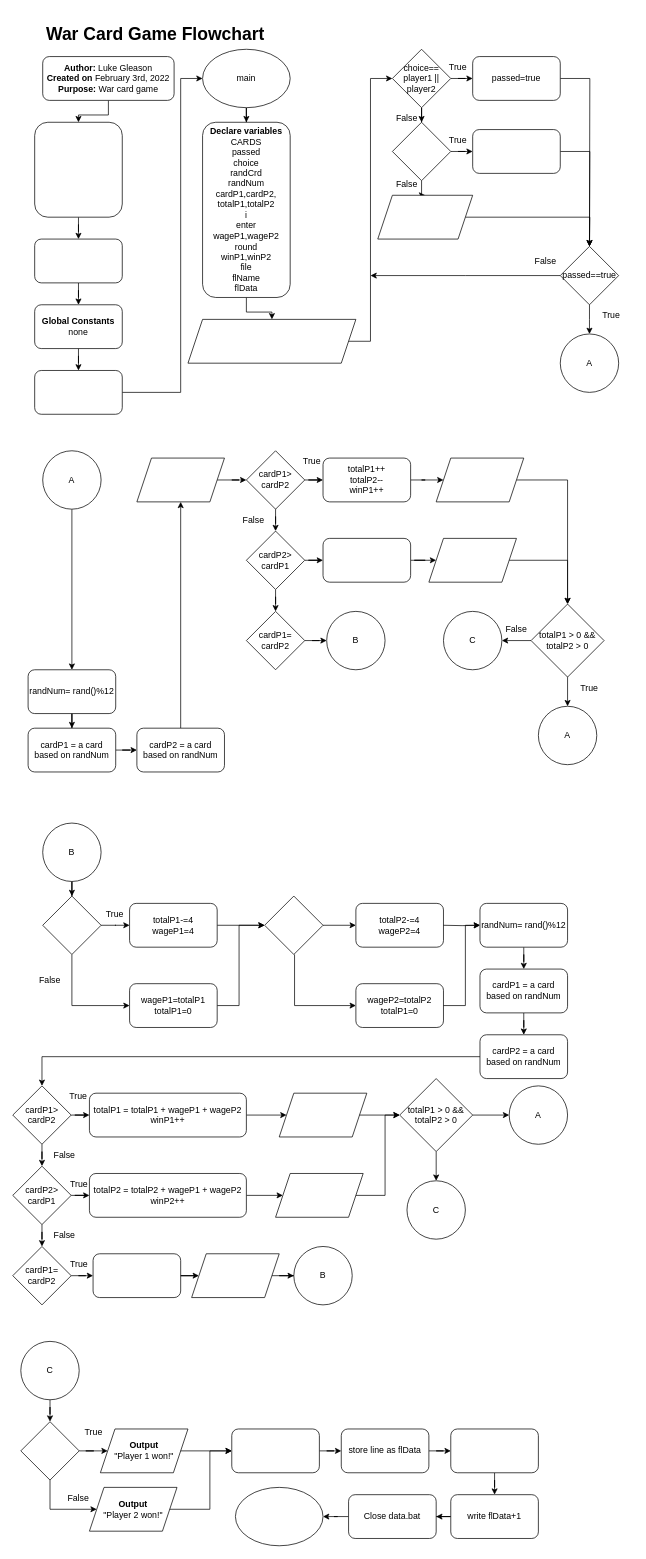
Some shapes in this 646 by 1559 pixel diagram are drawn without their labels. The box of each missing label's shape, as (x1, y1, x2, y2) in pixels:
choice==reset: (392, 122, 451, 181)
data.bat = 0: (472, 129, 560, 173)
Function Prototypes none: (34, 370, 122, 414)
Output "Invalid response": (377, 195, 473, 239)
Output "No one wins": (191, 1253, 279, 1298)
Output "Player 1 wins the round": (435, 457, 524, 502)
Output "Player 1 wins the war": (278, 1092, 367, 1137)
Output "Player 2 wins the round": (428, 538, 516, 582)
Output "Player 2 wins the war": (275, 1173, 363, 1217)
Output Player1 & Player2's card: (136, 457, 224, 502)
Prompt for Input "what player do you want to be" choice: (187, 319, 356, 363)
read data.bat: (231, 1428, 319, 1473)
return 0 exit from main: (235, 1487, 323, 1546)
System Librarys iostream string iomanip cmath cstdlib fstream ctime: (34, 122, 122, 217)
totalP1+=wageP1 totalP2+=wageP2: (92, 1253, 181, 1298)
totalP1>0: (20, 1421, 79, 1480)
totalP1>4: (42, 895, 101, 954)
totalP2++ totalP1-- winP2++: (322, 538, 411, 582)
totalP2>4: (264, 895, 323, 954)
User Libraries none: (34, 238, 122, 283)
write data.bat: (450, 1428, 538, 1473)
